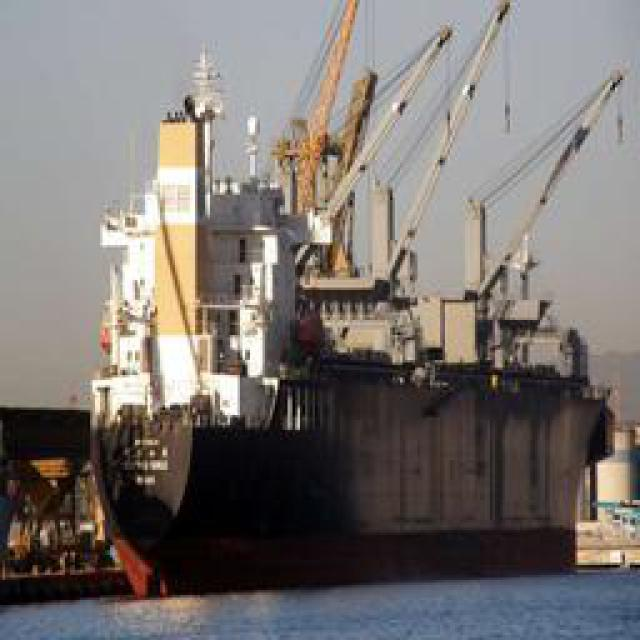Ship: (52, 10, 607, 600)
